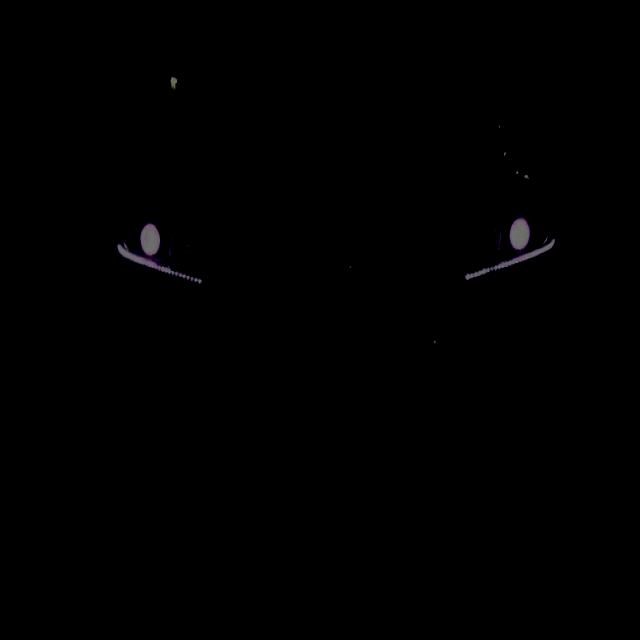Car: (106, 8, 556, 388)
